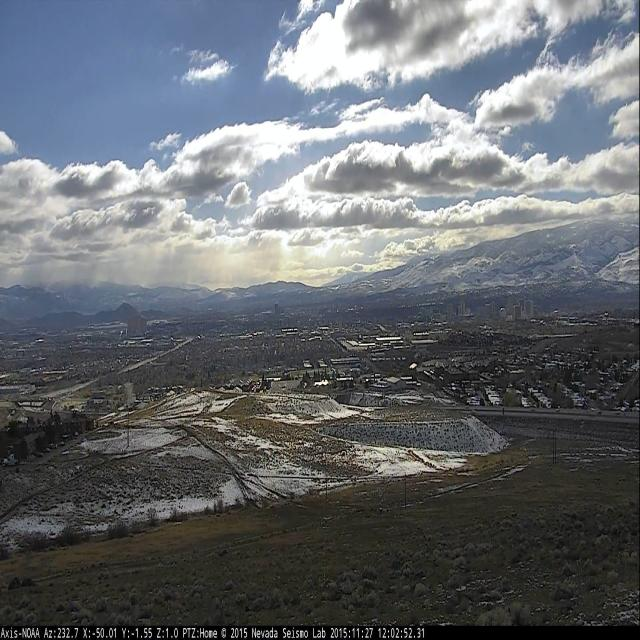smoke: (120, 326, 126, 335)
